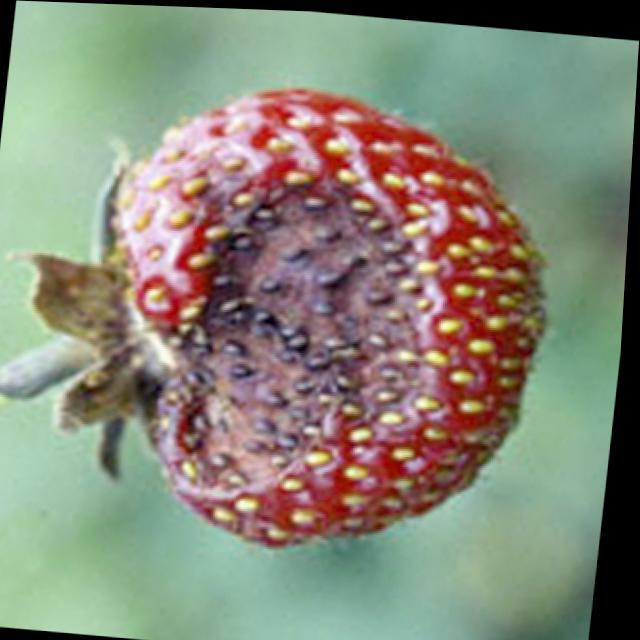Anthracnose Fruit Rot: (142, 151, 441, 504)
